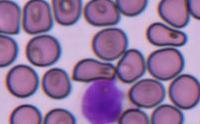L: (81, 78, 124, 124)
